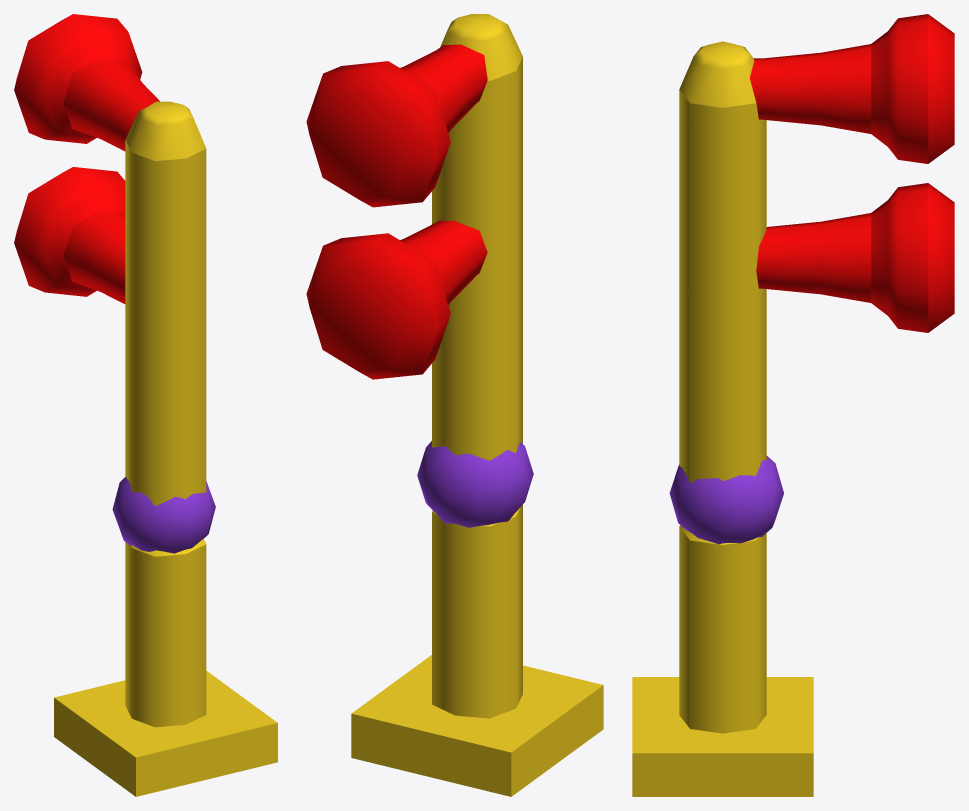
Rendered from tuzak 2.fbx.
3 renders of one model, left to right at view 1: azimuth 30°, elevation 25°; view 2: azimuth 150°, elevation 25°; view 3: azimuth 270°, elevation 25°, orthographic. The views are drawn at different scales.
Visible parts, largest first — view 1: polySurface17, pCube7, pCube6, polySurface19, polySurface18, pPlatonic1; view 2: polySurface17, pCube7, polySurface19, polySurface18, pCube6, pPlatonic1; view 3: polySurface17, polySurface19, polySurface18, pCube7, pCube6, pPlatonic1.
Boxes of the visible parts, box(x1,y1,x2,y2) form: polySurface17: box(125, 101, 206, 506); pCube7: box(54, 671, 277, 796); pCube6: box(125, 539, 206, 727); polySurface19: box(14, 14, 159, 151); polySurface18: box(14, 167, 125, 303); pPlatonic1: box(112, 477, 215, 553); polySurface17: box(432, 14, 522, 460); pCube7: box(351, 655, 603, 796); polySurface19: box(306, 44, 487, 207); polySurface18: box(306, 220, 487, 379); pCube6: box(432, 505, 522, 718); pPlatonic1: box(417, 441, 533, 527); polySurface17: box(679, 41, 766, 483); polySurface19: box(749, 14, 954, 163); polySurface18: box(756, 183, 954, 332); pCube7: box(632, 677, 813, 796); pCube6: box(679, 525, 766, 733); pPlatonic1: box(669, 456, 783, 544).
Size of the model in its own units: 1.2 by 5.39 by 2.13.
